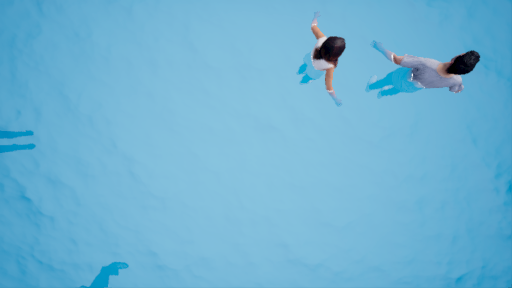person: (370, 34, 474, 107), (299, 11, 348, 111)
